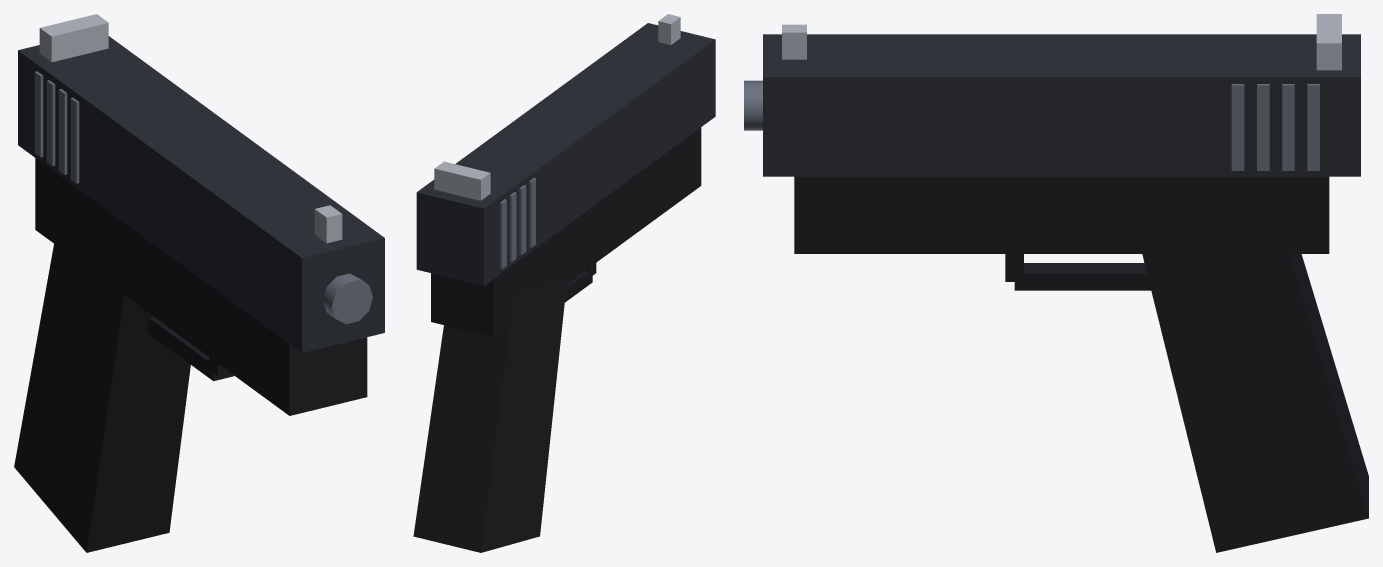
Rendered from Pistol.obj.
3 views of the same model, side by side, from view 1: azimuth 30°, elevation 25°; view 2: azimuth 150°, elevation 25°; view 3: azimuth 270°, elevation 25° (orthographic). The views are drawn at different scales.
Parts seen in each view (by area): view 1: SlideBody, Grip, Frame, Sights, SlideSerrations, Barrel, TriggerGuard; view 2: SlideBody, Grip, Frame, Sights, SlideSerrations, TriggerGuard; view 3: SlideBody, Grip, Frame, SlideSerrations, TriggerGuard, Sights, Barrel.
Part boxes in pixels (box(x1,y1,x2,y2)): SlideBody: box(18, 36, 384, 352); Grip: box(14, 211, 190, 552); Frame: box(35, 158, 367, 415); Sights: box(39, 14, 342, 243); SlideSerrations: box(34, 71, 79, 183); Barrel: box(323, 273, 372, 324); TriggerGuard: box(147, 316, 234, 381); SlideBody: box(416, 23, 715, 285); Grip: box(413, 277, 567, 552); Frame: box(431, 127, 701, 337); Sights: box(434, 14, 680, 200); SlideSerrations: box(500, 178, 535, 269); TriggerGuard: box(564, 263, 596, 302); SlideBody: box(763, 34, 1360, 176); Grip: box(1140, 214, 1368, 552); Frame: box(794, 176, 1329, 253); SlideSerrations: box(1231, 84, 1319, 170); TriggerGuard: box(1005, 254, 1151, 290); Sights: box(782, 14, 1341, 70); Barrel: box(744, 80, 762, 130).
Size of the model in its own units: 0.034 by 0.1764 by 0.1986.
